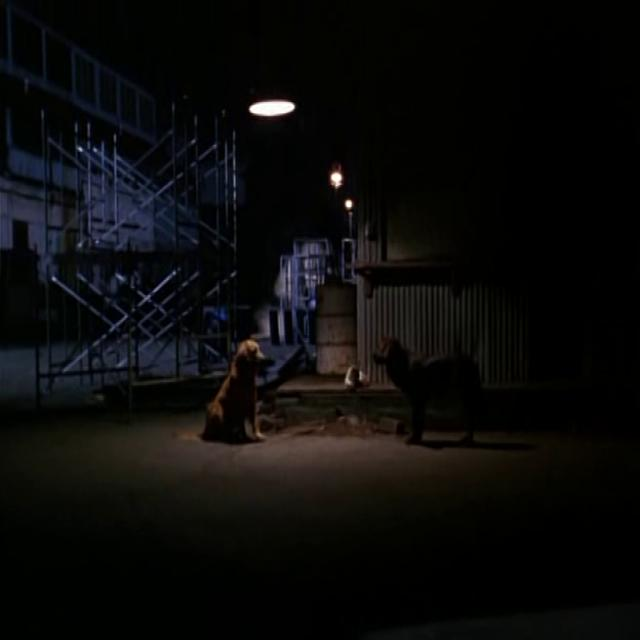dog: (361, 332, 517, 430), (195, 319, 269, 446)
